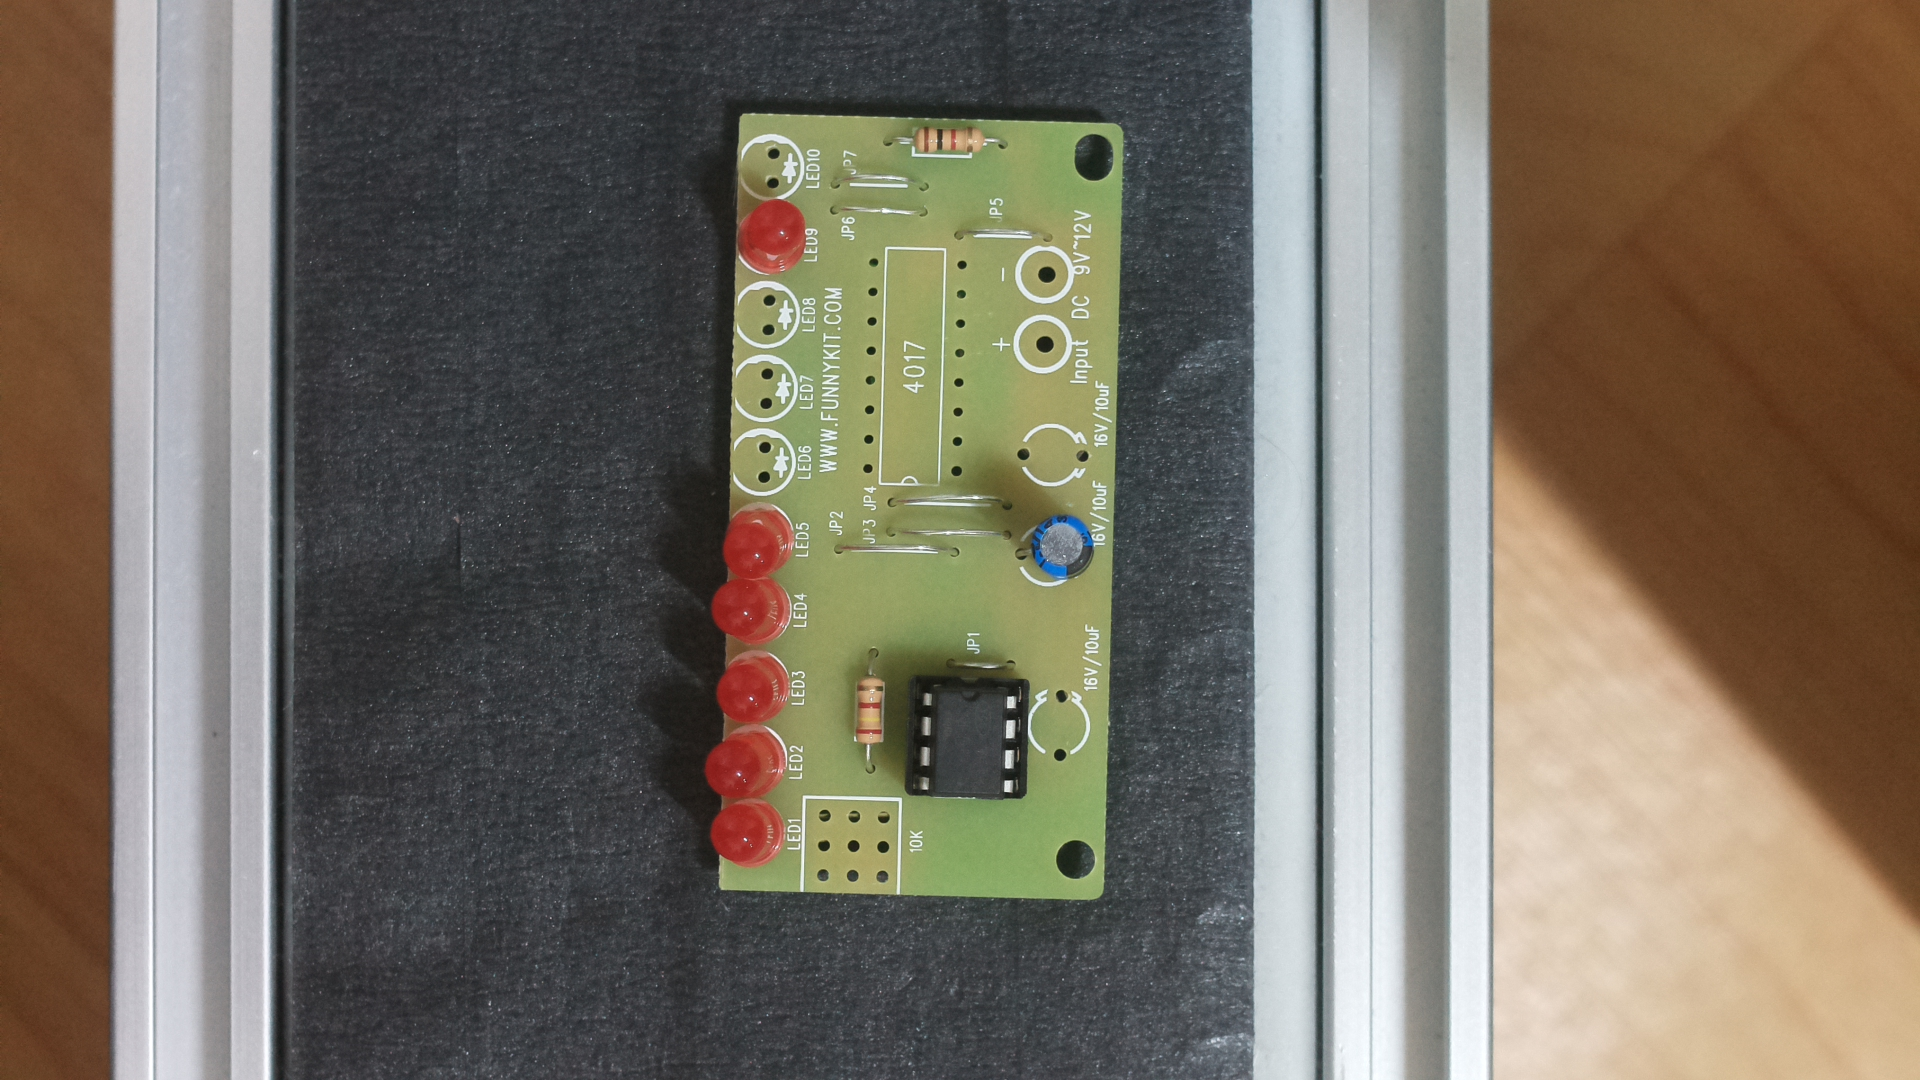B_Missing_part: (703, 91, 1130, 927)
